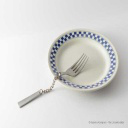Fork: (3, 52, 95, 104)
